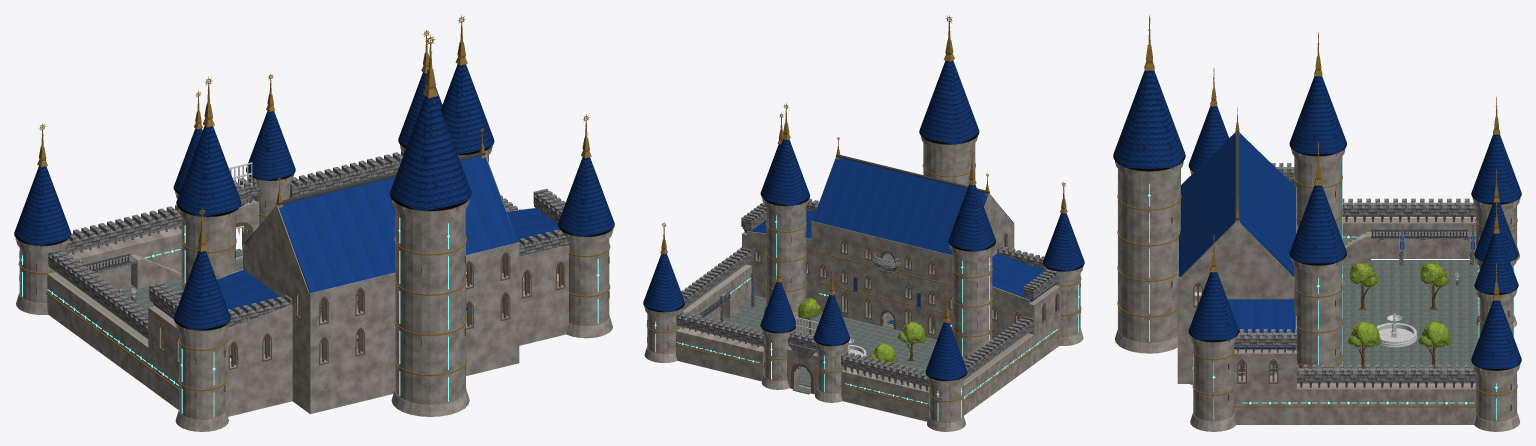
Rendered from castle_b.parts.glb.
3 renders of one model, left to right at view 1: azimuth 30°, elevation 25°; view 2: azimuth 150°, elevation 25°; view 3: azimuth 270°, elevation 25°, orthographic. The views are drawn at different scales.
Visible parts, largest first — view 1: shell_L0_1, shell_L0_6, shell_H2_1, shell_L0_0, shell_L0_3, shell_H2_0; view 2: shell_L0_1, shell_L0_6, shell_H2_1, shell_L0_0, shell_L0_3, P425_Tree_02, shell_H2_0, P426_Tree_02; view 3: shell_L0_1, shell_L0_6, shell_H2_1, shell_L0_0, shell_L0_3, P424_Fountain_01, P426_Tree_02, P428_Tree_02, P425_Tree_02, P427_Tree_02, shell_L0_7, shell_H2_0.
Boxes of the visible parts, bbox=[...] form: shell_L0_1: bbox=[15, 144, 613, 431]; shell_L0_6: bbox=[14, 64, 614, 330]; shell_H2_1: bbox=[153, 156, 559, 318]; shell_L0_0: bbox=[18, 214, 610, 391]; shell_L0_3: bbox=[21, 194, 599, 416]; shell_H2_0: bbox=[276, 152, 485, 205]; shell_L0_1: bbox=[644, 136, 1083, 431]; shell_L0_6: bbox=[643, 60, 1084, 380]; shell_H2_1: bbox=[745, 157, 1057, 301]; shell_L0_0: bbox=[646, 163, 1081, 407]; shell_L0_3: bbox=[654, 152, 1079, 420]; P425_Tree_02: bbox=[897, 321, 926, 360]; shell_H2_0: bbox=[836, 155, 989, 193]; P426_Tree_02: bbox=[797, 298, 820, 335]; shell_L0_1: bbox=[1115, 133, 1520, 431]; shell_L0_6: bbox=[1113, 70, 1521, 370]; shell_H2_1: bbox=[1178, 133, 1296, 349]; shell_L0_0: bbox=[1117, 175, 1517, 407]; shell_L0_3: bbox=[1117, 159, 1517, 420]; P424_Fountain_01: bbox=[1376, 313, 1417, 347]; P426_Tree_02: bbox=[1347, 321, 1381, 368]; P428_Tree_02: bbox=[1418, 321, 1451, 368]; P425_Tree_02: bbox=[1349, 262, 1378, 309]; P427_Tree_02: bbox=[1420, 262, 1449, 309]; shell_L0_7: bbox=[1371, 232, 1479, 285]; shell_H2_0: bbox=[1235, 130, 1239, 220].
Bounding box in the file's own units: 76.19 × 61.87 × 70.25.
Materials: 16 (13 with a texture image).
